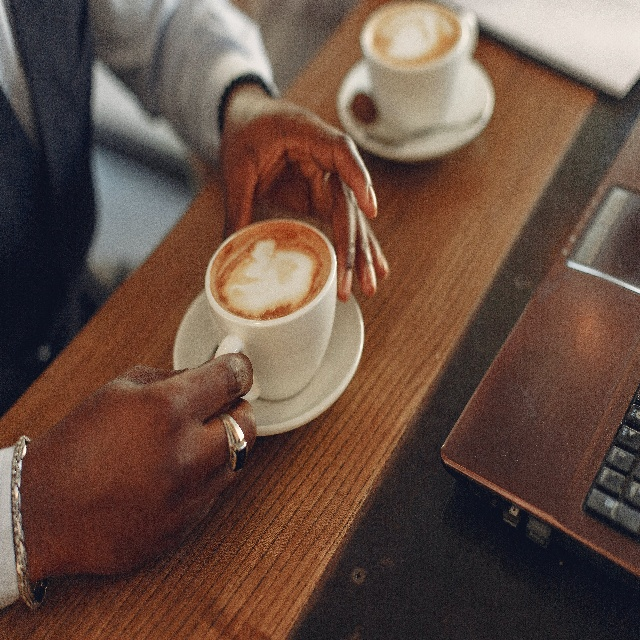Sin_guantes: (24, 352, 258, 581), (216, 82, 388, 303)
